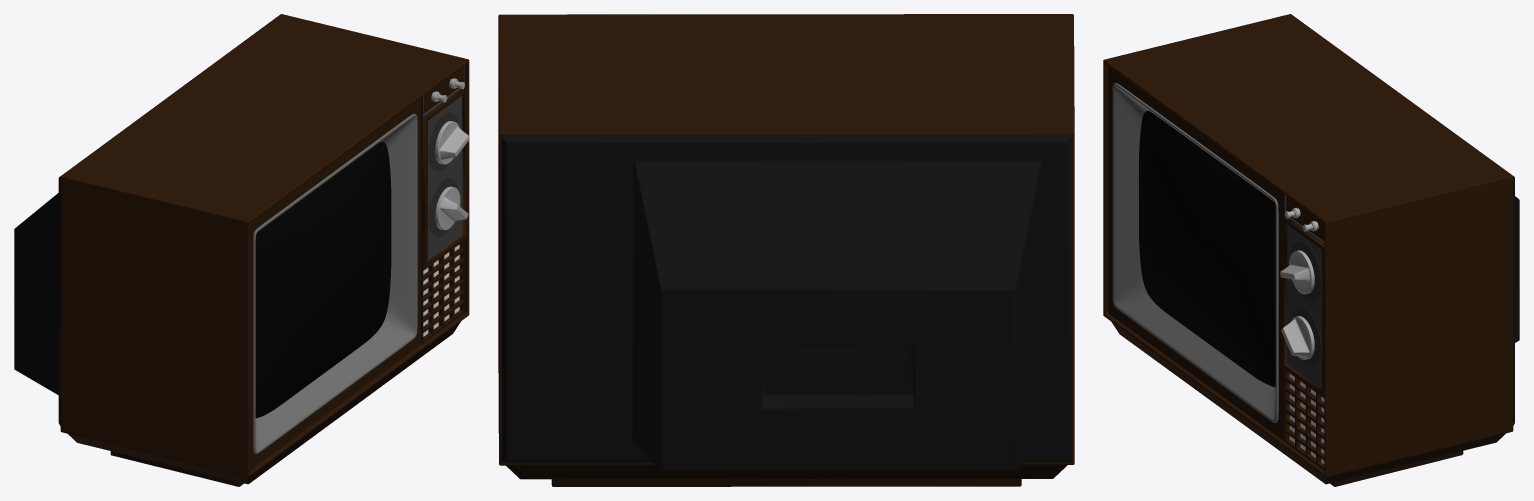
3 views of the same model, side by side, from view 1: azimuth 30°, elevation 25°; view 2: azimuth 150°, elevation 25°; view 3: azimuth 270°, elevation 25° (orthographic). The views are drawn at different scales.
Parts seen in each view (by area): view 1: tv_1|caixa|Dupli|; view 2: tv_1|caixa|Dupli|; view 3: tv_1|caixa|Dupli|.
Part boxes in pixels (x1,y1,x2,y2): tv_1|caixa|Dupli|: [14, 14, 469, 486]; tv_1|caixa|Dupli|: [498, 14, 1074, 486]; tv_1|caixa|Dupli|: [1103, 14, 1519, 486].
Bounding box in the file's own units: 103 × 66.24 × 86.81.
